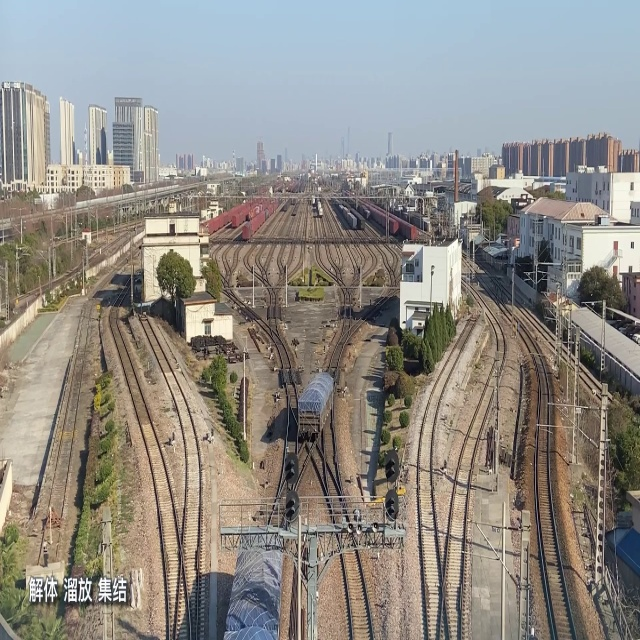train: (294, 367, 337, 437)
